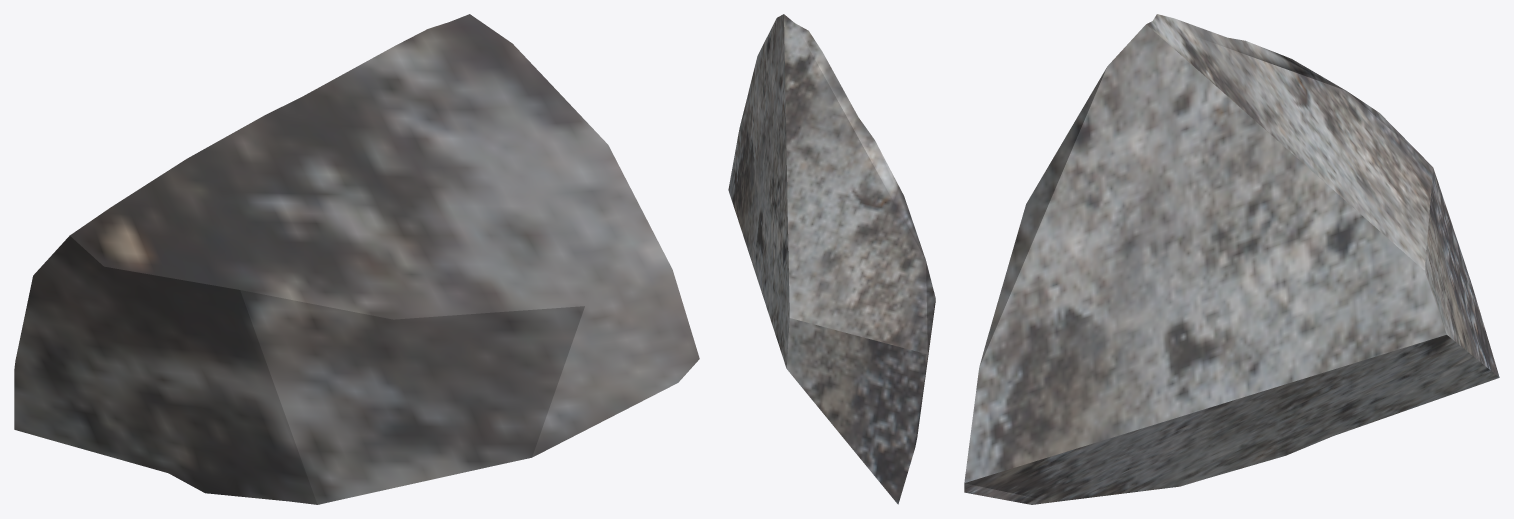
File: Asteroid_Large_001_02_009_03_040.fbx
3 views of the same model, side by side, from view 1: azimuth 30°, elevation 25°; view 2: azimuth 150°, elevation 25°; view 3: azimuth 270°, elevation 25° (orthographic). The views are drawn at different scales.
Visible parts, largest first — view 1: Asteroid_Large_001_02_009_03_040; view 2: Asteroid_Large_001_02_009_03_040; view 3: Asteroid_Large_001_02_009_03_040.
Part boxes in pixels (x1,y1,x2,y2): Asteroid_Large_001_02_009_03_040: [14, 14, 699, 504]; Asteroid_Large_001_02_009_03_040: [728, 14, 935, 504]; Asteroid_Large_001_02_009_03_040: [964, 14, 1499, 504].
Size of the model in its own units: 6.73 by 6.55 by 5.82.
